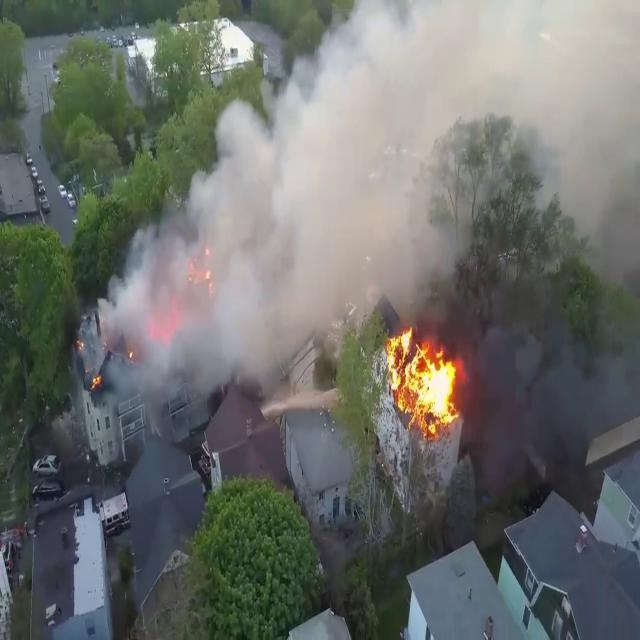Fire: (379, 314, 466, 434)
Smoke: (101, 2, 640, 430)
